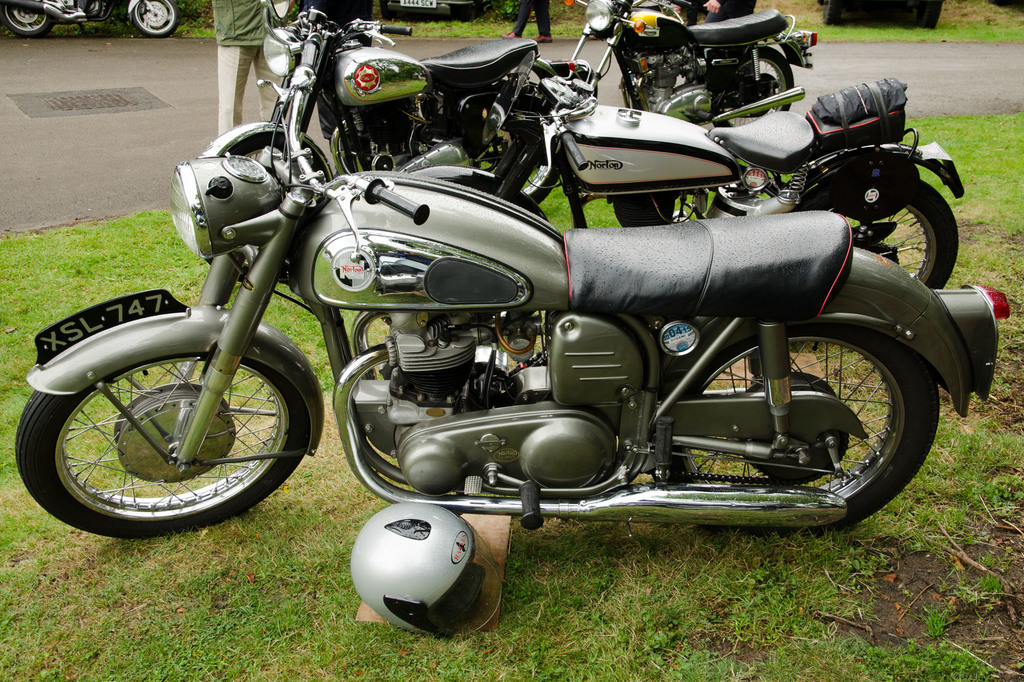mobil: (34, 140, 994, 597)
